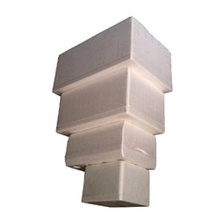foam_box: (49, 13, 175, 102), (51, 64, 169, 138), (61, 119, 161, 178), (77, 156, 154, 213)
